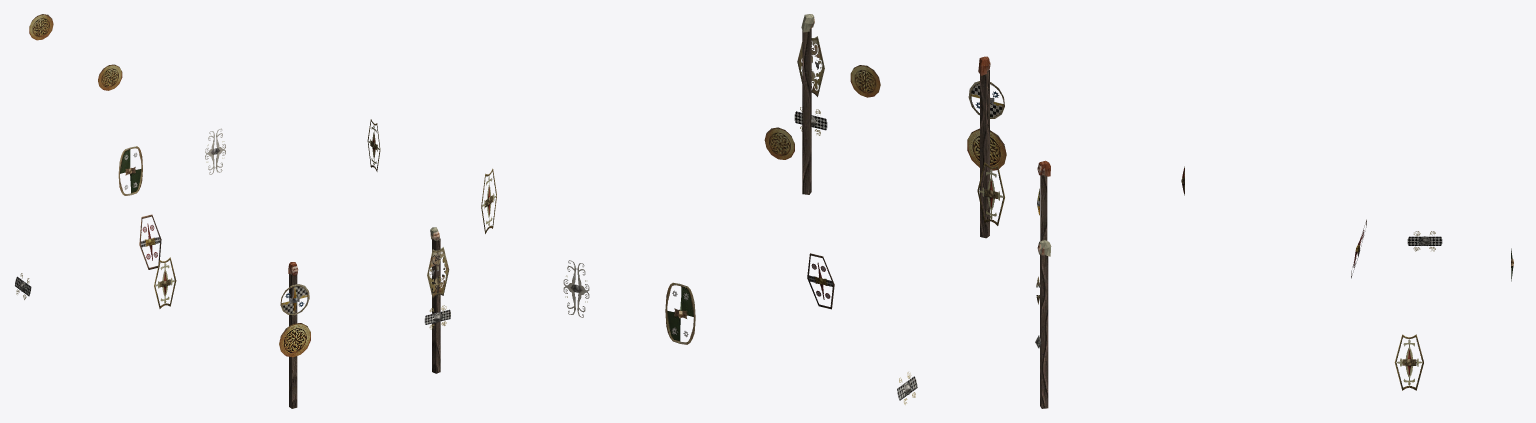
File: celt_temple_color.dae
The picture shows the model from 3 angles, left to right: view 1: azimuth 30°, elevation 25°; view 2: azimuth 150°, elevation 25°; view 3: azimuth 270°, elevation 25°; orthographic projection. The views are drawn at different scales.
Parts seen in each view (by area): view 1: colourbits; view 2: colourbits; view 3: colourbits.
Part boxes in pixels (x1,y1,x2,y2): colourbits: (15, 14, 450, 408); colourbits: (481, 14, 1006, 404); colourbits: (1035, 160, 1513, 408).
Size of the model in its own units: 20.17 by 13.89 by 21.33.
